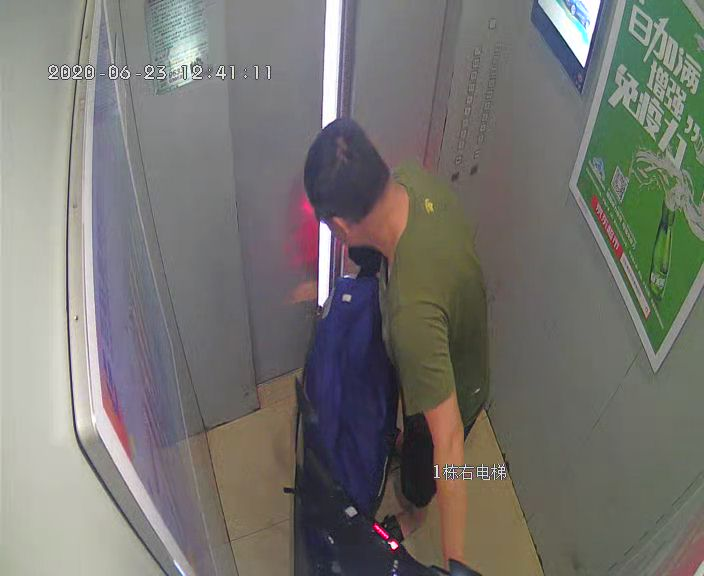Electric-bicycle: (289, 246, 425, 572)
